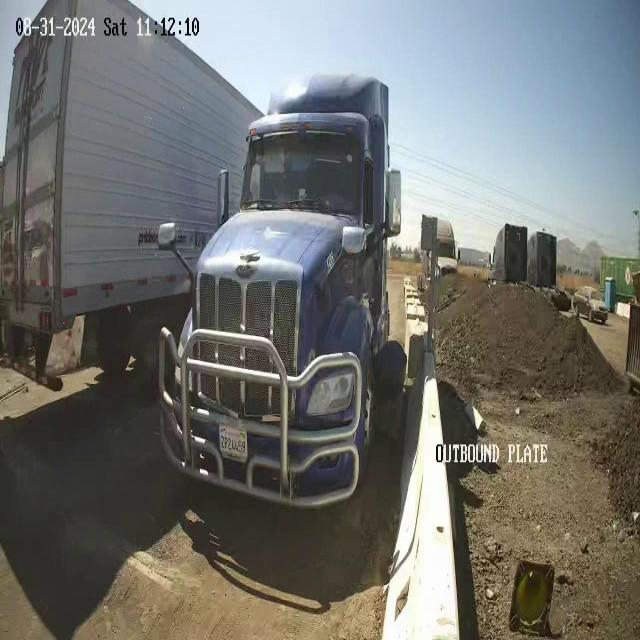TRUCK_IN: (157, 70, 407, 512)
